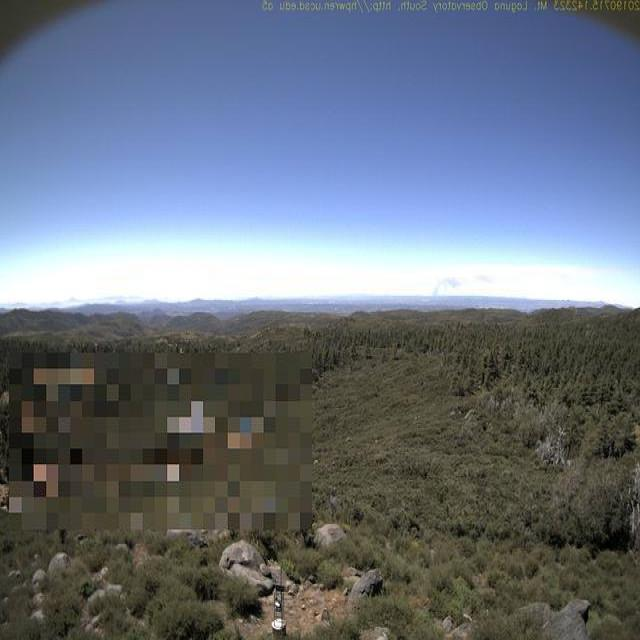smoke: (430, 277, 466, 296)
